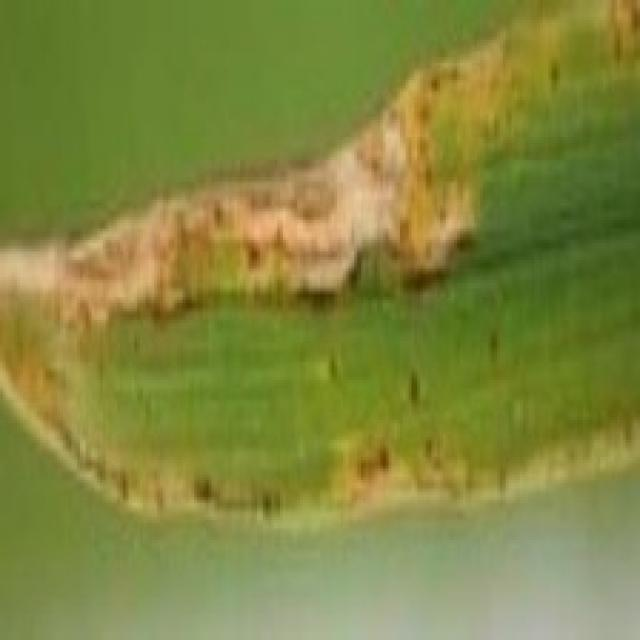Rice___Bacterial_Leaf_Blight: (0, 0, 637, 528)
